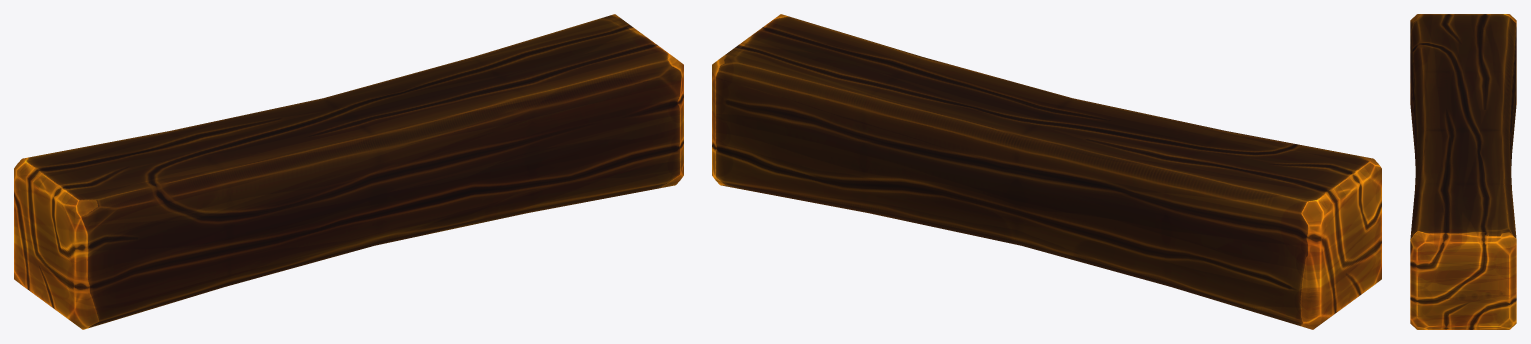
Rendered from stylized_low-poly_wooden_beam.glb.
3 views of the same model, side by side, from view 1: azimuth 30°, elevation 25°; view 2: azimuth 150°, elevation 25°; view 3: azimuth 270°, elevation 25° (orthographic). The views are drawn at different scales.
Visible parts, largest first — view 1: Cube; view 2: Cube; view 3: Cube.
Boxes of the visible parts, x1,y1,x2,y2 form: Cube: [14, 14, 683, 329]; Cube: [712, 14, 1381, 329]; Cube: [1410, 14, 1516, 329].
Size of the model in its own units: 1000 by 199 by 199.
1 material, 1 textured.
